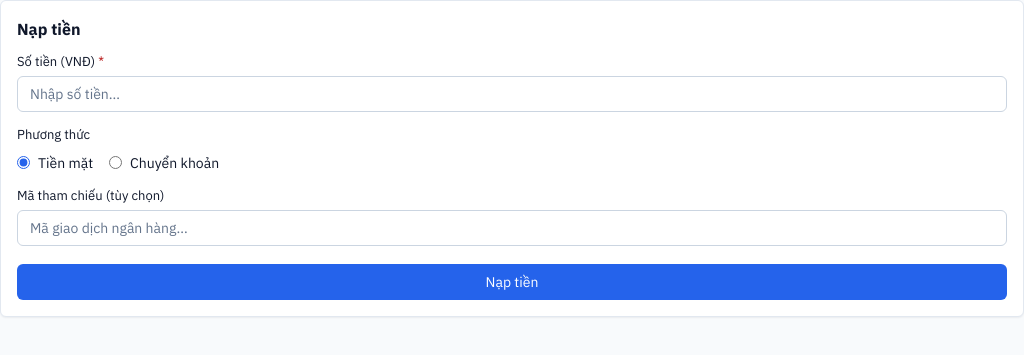
Test: TopupForm — amount validation › rejects empty amount
What coordinates should you click on to do the following:
click the button "Nạp tiền"
I would click on:
 (512, 282)
Its box is [17,264,1007,300].
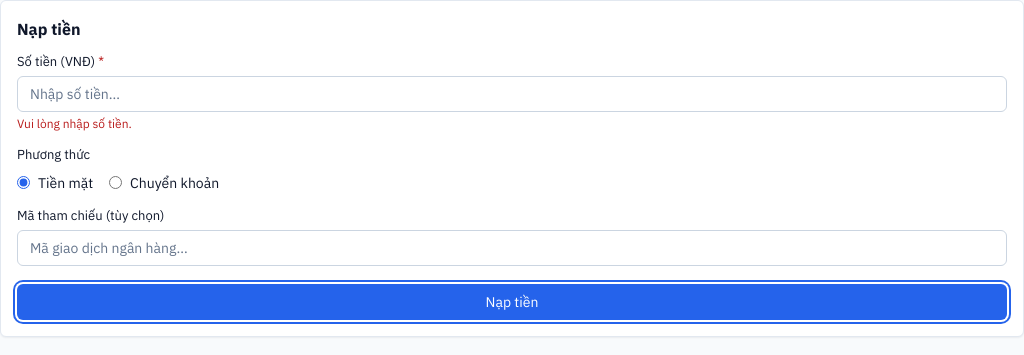
Now the text "Vui lòng nhập số tiền." is shown, box [17,116,132,131]
